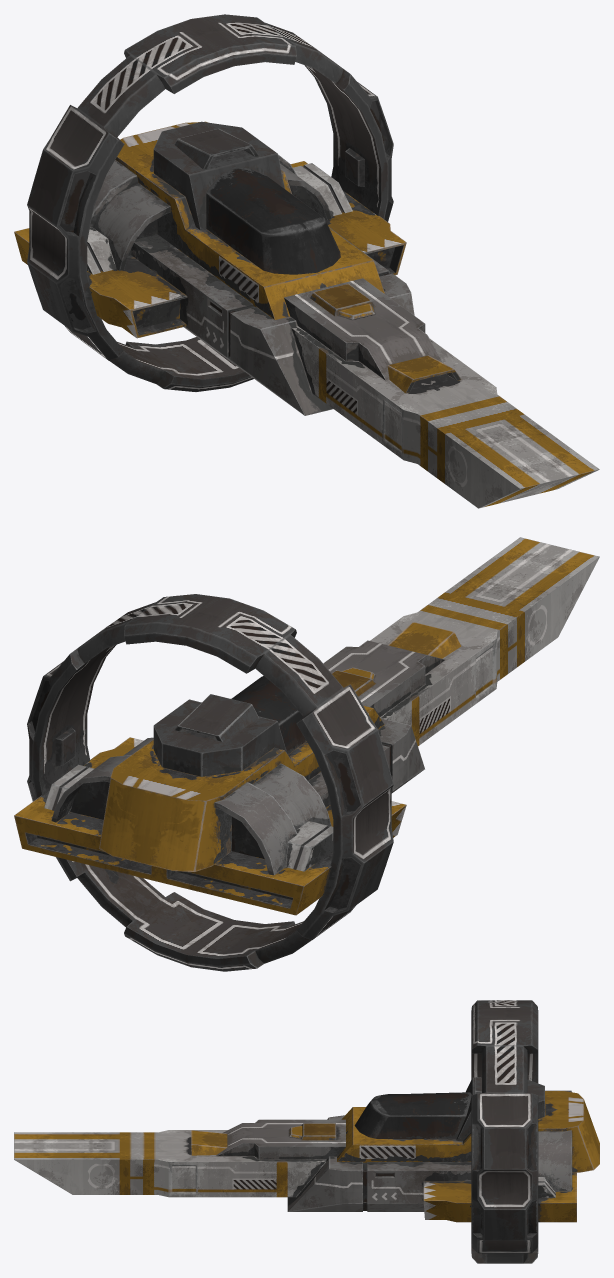
File: Zenith.glb
3 views of the same model, one above another, from view 1: azimuth 30°, elevation 25°; view 2: azimuth 150°, elevation 25°; view 3: azimuth 270°, elevation 25° (orthographic). The views are drawn at different scales.
Visible parts, largest first — view 1: Zenith; view 2: Zenith; view 3: Zenith.
Part boxes in pixels (bbox=[...]): Zenith: bbox=[14, 14, 599, 508]; Zenith: bbox=[14, 537, 599, 971]; Zenith: bbox=[14, 1000, 599, 1263].
Bounding box in the file's own units: 5.63 × 5.43 × 12.07.
1 material, 1 textured.
